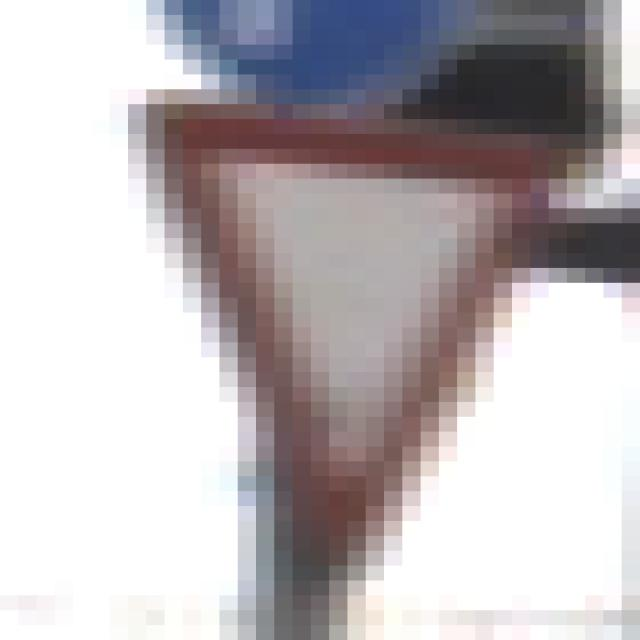Give Way: (111, 76, 550, 567)
